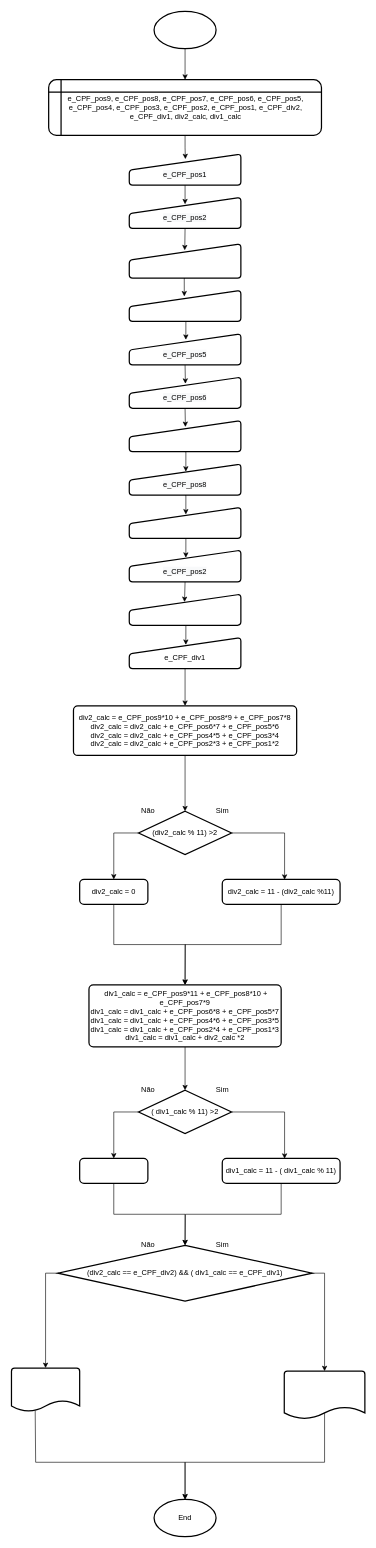
The diagram is 376 pixels wide and 1548 high, and some of its shapes have lost their labels. Each missing label, with the centre of its shape:
"CPF Inválido" belongs at (x=45, y=1389).
"CPF valido" belongs at (x=324, y=1394).
"div1_calc = 0" belongs at (x=113, y=1171).
"e_CPF_div2" belongs at (x=184, y=609).
"e_CPF_pos3" belongs at (x=184, y=260).
"e_CPF_pos4" belongs at (x=184, y=306).
"e_CPF_pos7" belongs at (x=184, y=436).
"e_CPF_pos9" belongs at (x=184, y=523).
"Start" belongs at (x=184, y=30).
